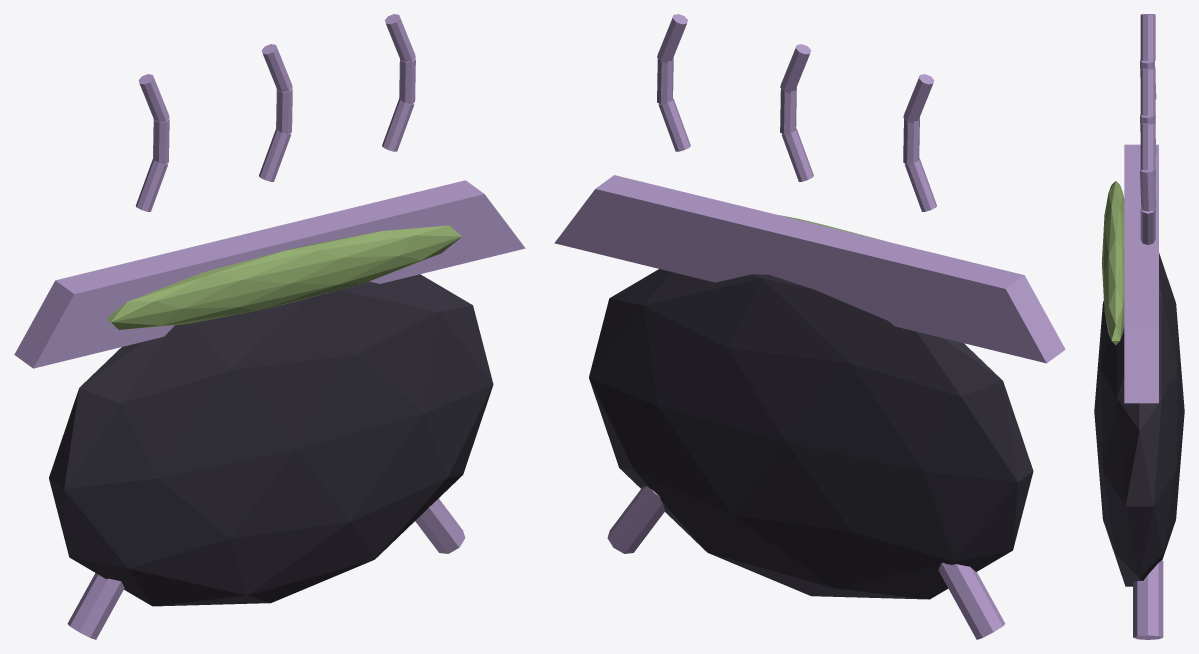
File: echo-verse.glb
The picture shows the model from 3 angles, left to right: view 1: azimuth 30°, elevation 25°; view 2: azimuth 150°, elevation 25°; view 3: azimuth 270°, elevation 25°; orthographic projection. The views are drawn at different scales.
Visible parts, largest first — view 1: Cauldron belly.002, Cauldron lip.002, Potion surface.003, Potion steam.011; view 2: Cauldron belly.002, Cauldron lip.002, Potion steam.011; view 3: Cauldron belly.002, Cauldron lip.002, Potion steam.011, Potion surface.003.
Part boxes in pixels (x1,y1,x2,y2): Cauldron belly.002: [49, 274, 493, 606]; Cauldron lip.002: [14, 180, 525, 639]; Potion surface.003: [106, 225, 461, 329]; Potion steam.011: [135, 14, 415, 211]; Cauldron belly.002: [589, 269, 1033, 599]; Cauldron lip.002: [554, 175, 1065, 639]; Potion steam.011: [657, 14, 936, 211]; Cauldron belly.002: [1094, 253, 1184, 586]; Cauldron lip.002: [1124, 144, 1163, 639]; Potion steam.011: [1140, 14, 1156, 244]; Potion surface.003: [1102, 181, 1124, 345].
Size of the model in its own units: 0.024 by 0.0257 by 0.0042.
